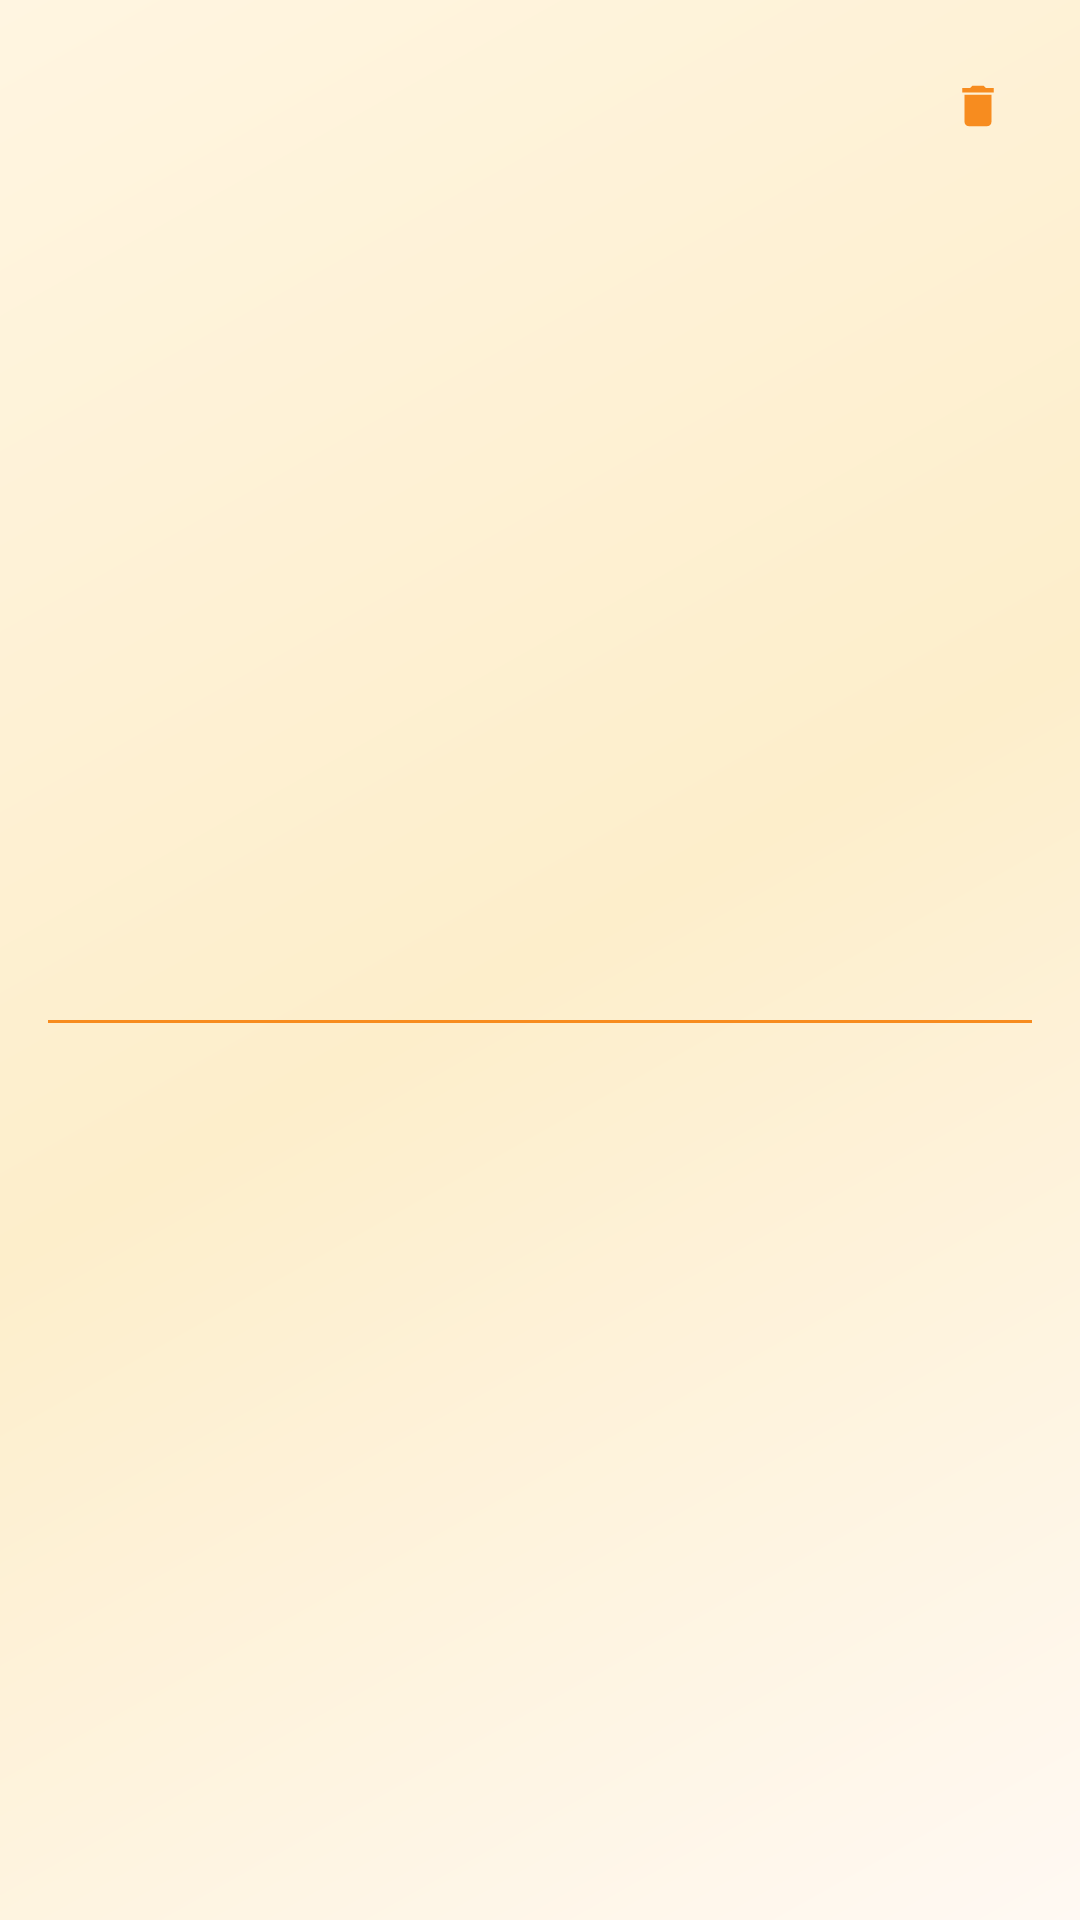

Point at icon controls on the screen. Image size 1080w x 1920h, points as (x=x, y=y).
delete: (x=978, y=106)
